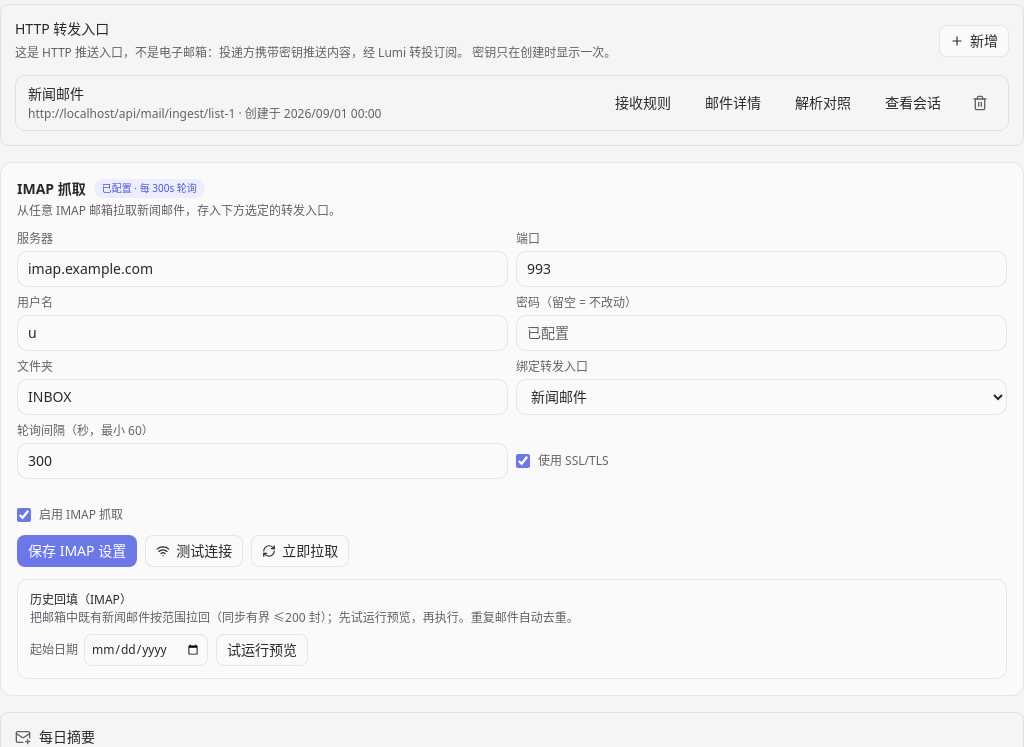
F106 历史回填向导 › F106: uidvalidity 变更中止 → 诚实呈现不重试
Expected: the text "新闻邮件" is shown, top-left (28, 84), bottom-right (84, 102)
Click the button "试运行预览". click: (262, 650)
box: top-left (216, 634), bottom-right (308, 666)
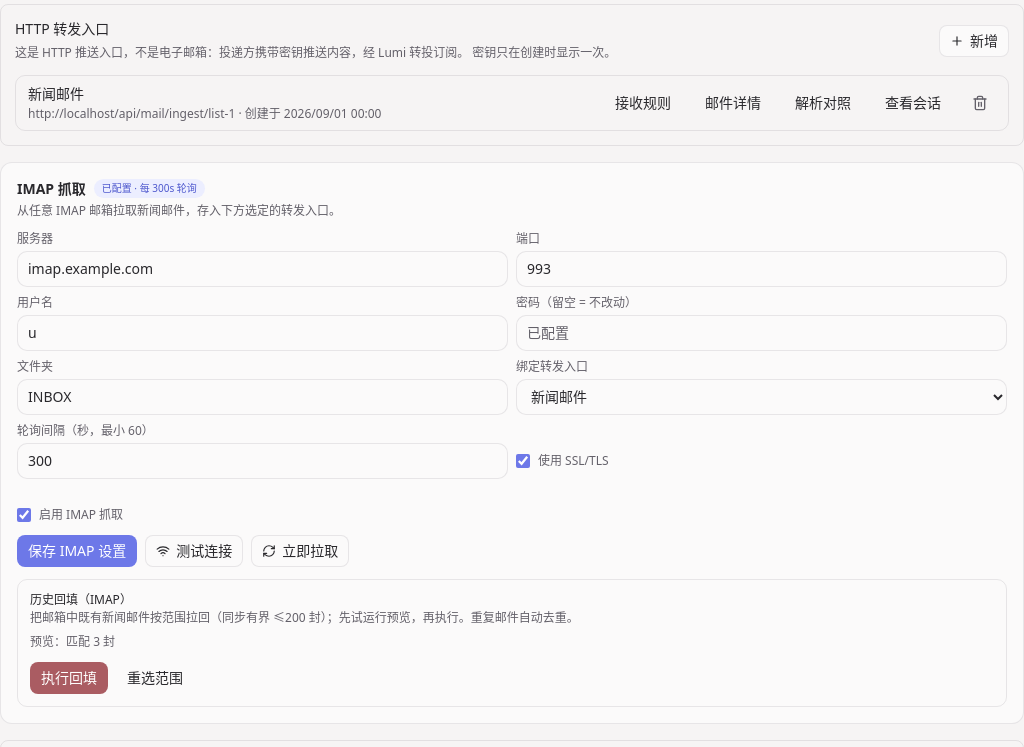
Expected: the element showing "预览：匹配 3 封 执行回填 重选范围" is shown, top-left (30, 632), bottom-right (194, 694)
Click the button "执行回填". click: (69, 678)
box: top-left (30, 662), bottom-right (108, 694)
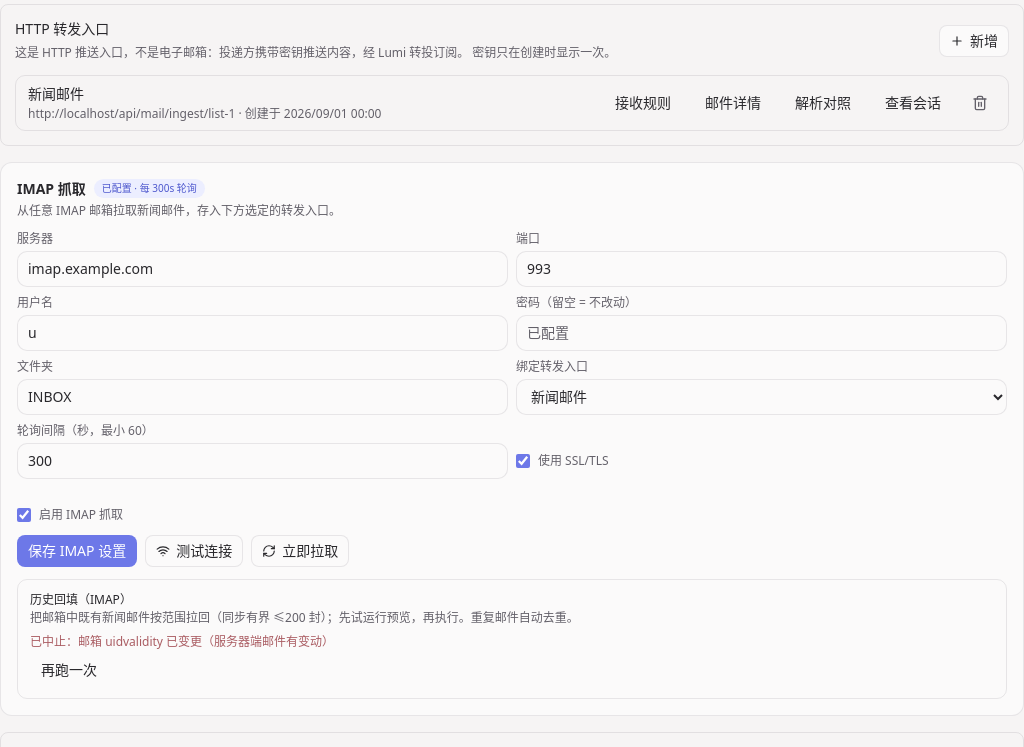
Result: the element showing "已中止：邮箱 uidvalidity 已变更（服务器端邮件有变动） 再跑一次" is shown at top-left (30, 632), bottom-right (334, 686)
